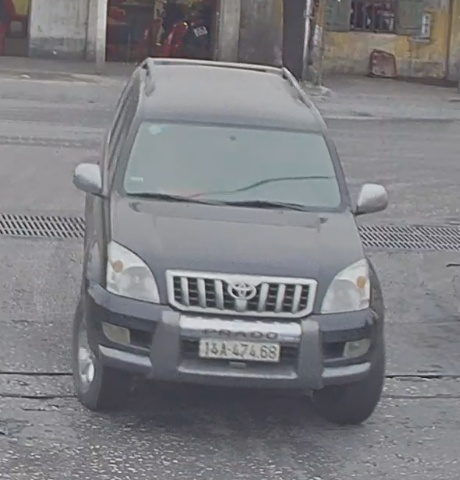vehicle plate: (197, 335, 284, 362)
